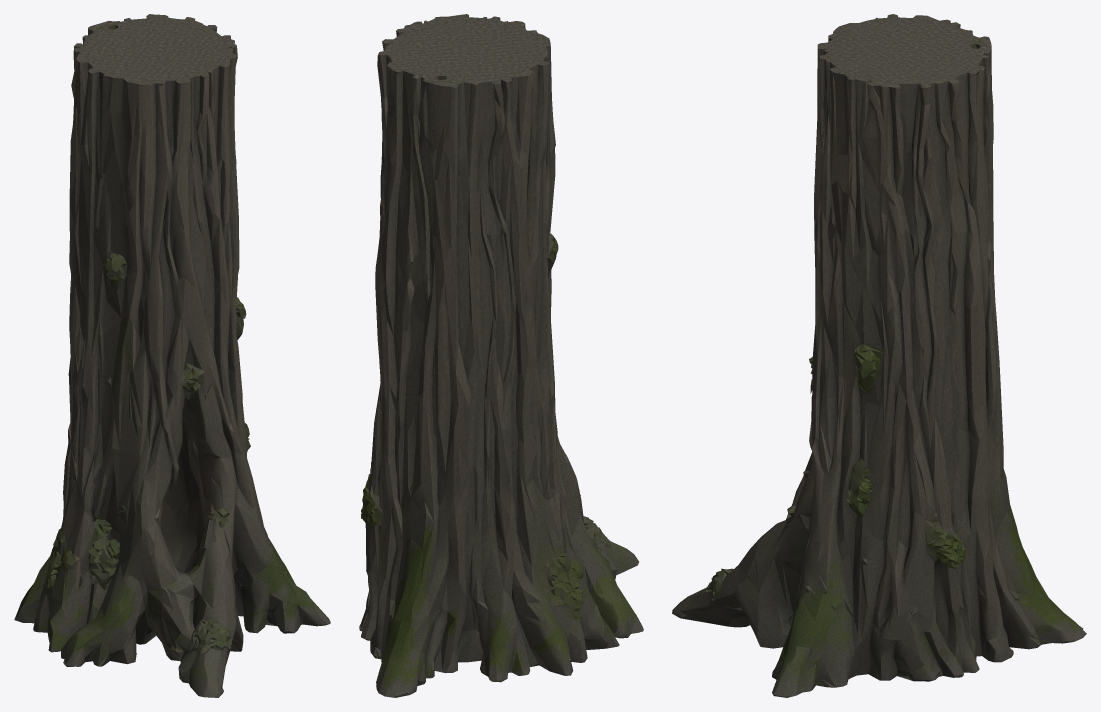
Rendered from trunk_giant_b.glb.
3 renders of one model, left to right at view 1: azimuth 30°, elevation 25°; view 2: azimuth 150°, elevation 25°; view 3: azimuth 270°, elevation 25°, orthographic. The views are drawn at different scales.
Size of the model in its own units: 0.8806 by 1.9 by 1.22.
1 material, 1 textured.
